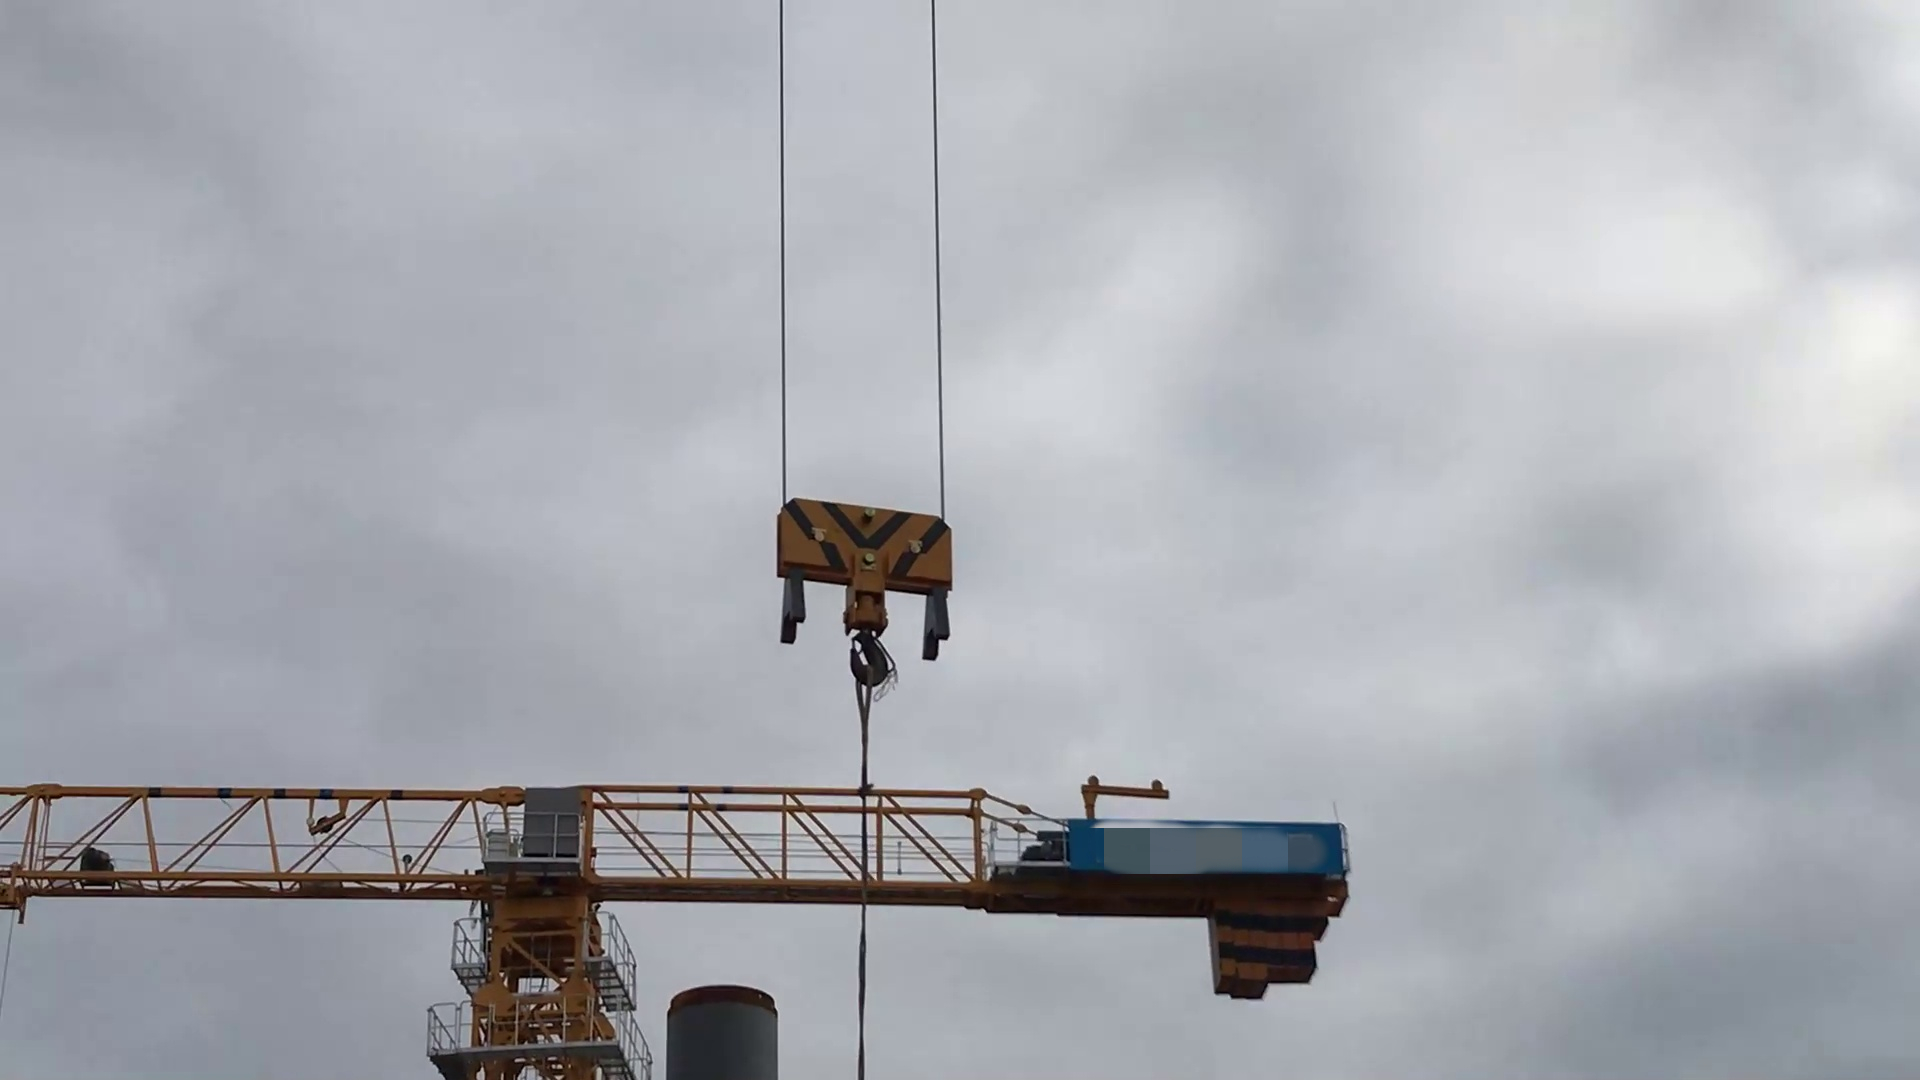hook: (764, 491, 963, 698)
